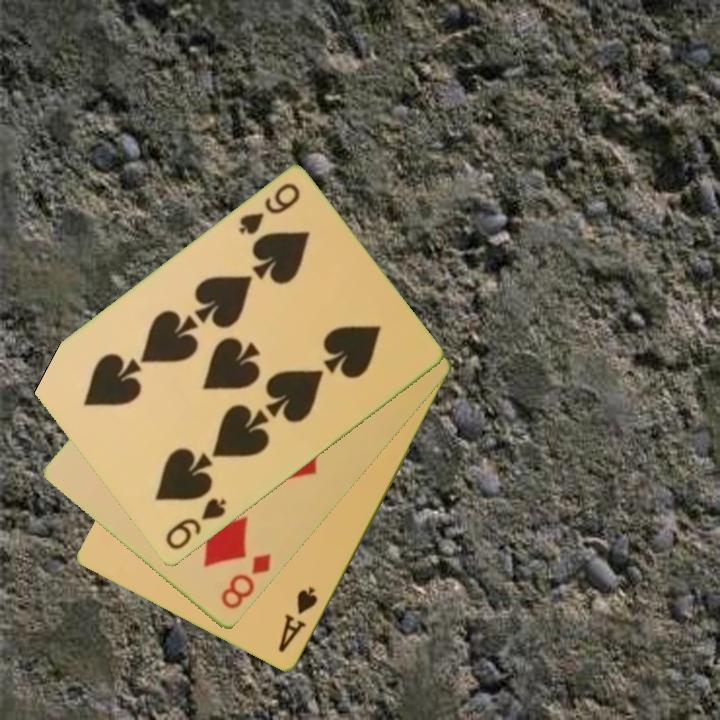8d: (217, 550, 275, 613)
9s: (162, 494, 230, 554), (234, 180, 303, 239)
As: (274, 584, 321, 657)
